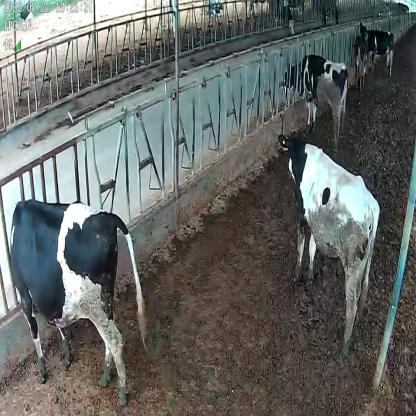cow: (6, 198, 148, 403), (278, 134, 380, 362), (280, 54, 349, 153)
